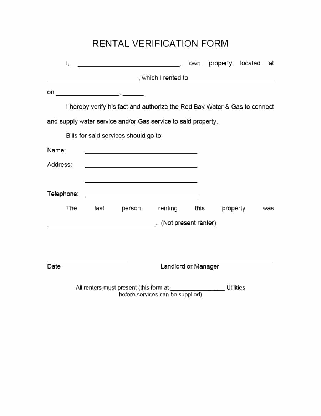textline: (82, 142, 198, 156), (159, 250, 274, 264), (45, 215, 156, 228), (43, 249, 130, 264), (83, 159, 198, 170), (82, 174, 199, 184), (82, 189, 199, 199), (76, 58, 180, 68), (46, 72, 139, 83), (56, 87, 144, 98), (190, 72, 276, 83), (56, 87, 119, 97), (170, 283, 226, 292), (122, 87, 144, 97)
